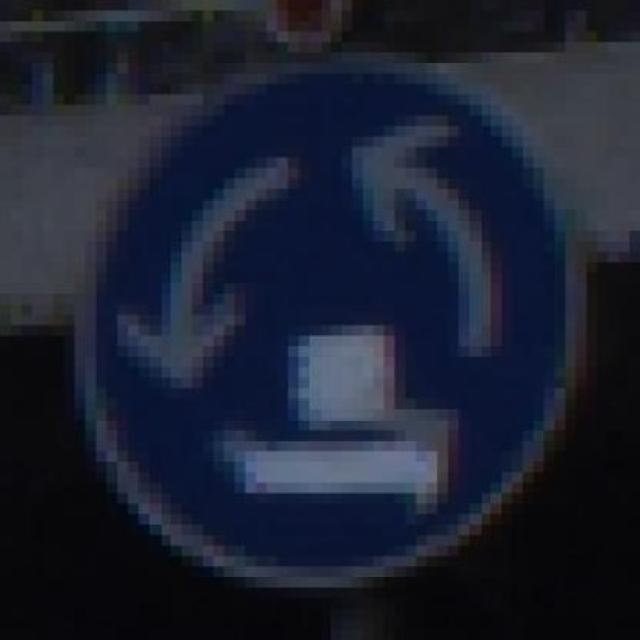Round-About: (75, 63, 587, 599)
